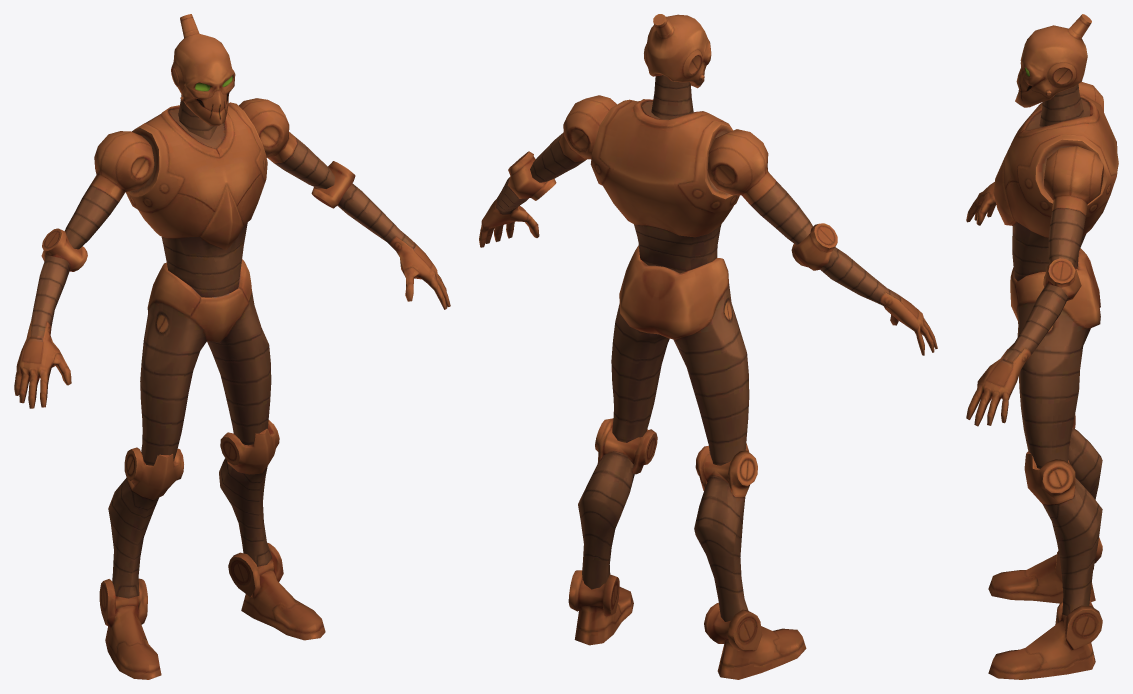
File: Robot.obj
3 views of the same model, side by side, from view 1: azimuth 30°, elevation 25°; view 2: azimuth 150°, elevation 25°; view 3: azimuth 270°, elevation 25° (orthographic). The views are drawn at different scales.
Parts seen in each view (by area): view 1: Robot; view 2: Robot; view 3: Robot.
Part boxes in pixels (<box>): Robot: <box>14,14,450,679</box>; Robot: <box>479,14,937,679</box>; Robot: <box>966,14,1118,679</box>.
Size of the model in its own units: 1.28 by 1.75 by 0.394.
Materials: 1 (1 with a texture image).
